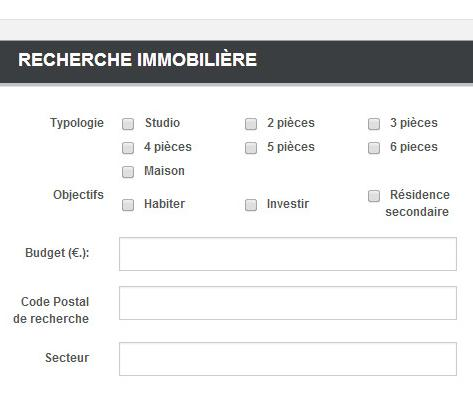checkbox: (120, 115, 137, 133), (242, 140, 260, 155), (242, 197, 258, 213), (121, 140, 136, 156), (120, 196, 135, 212), (119, 165, 136, 178), (365, 116, 379, 131), (365, 189, 380, 203), (366, 139, 379, 155), (245, 116, 257, 132)
checkbox_with_label: (362, 185, 453, 216), (238, 136, 315, 159), (238, 193, 312, 216), (116, 138, 192, 160), (364, 136, 436, 159), (363, 112, 438, 134), (116, 193, 186, 216), (241, 113, 317, 134), (115, 161, 183, 181), (117, 113, 180, 134)
field: (117, 234, 458, 272), (117, 285, 459, 322), (118, 339, 459, 375)
field_with_label: (24, 231, 461, 275), (14, 283, 461, 325), (44, 336, 463, 379)
